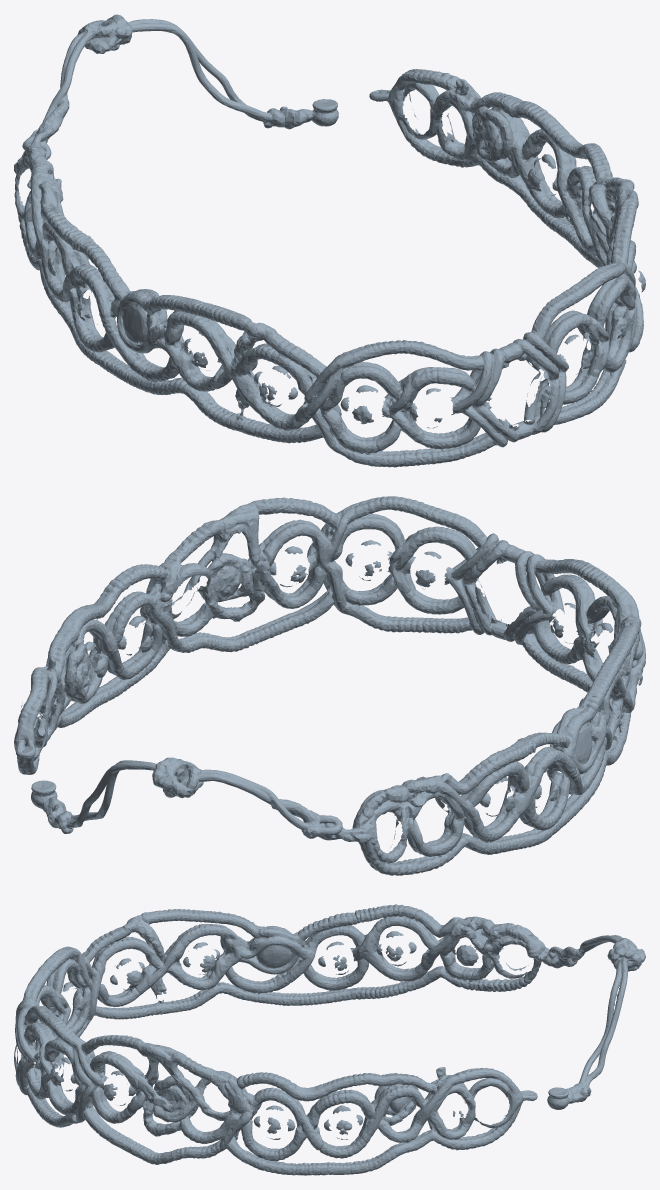
The model's file is bracelet-perle-d-ecume.glb.
The picture shows the model from 3 angles, top to bottom: view 1: azimuth 30°, elevation 25°; view 2: azimuth 150°, elevation 25°; view 3: azimuth 270°, elevation 25°; orthographic projection. The views are drawn at different scales.
Visible parts, largest first — view 1: fil; view 2: fil; view 3: fil.
Boxes of the visible parts, <box> form: fil: <box>14,14,645,467</box>; fil: <box>14,496,645,875</box>; fil: <box>14,904,645,1175</box>.
Bounding box in the file's own units: 0.7036 × 0.2336 × 0.9735.
